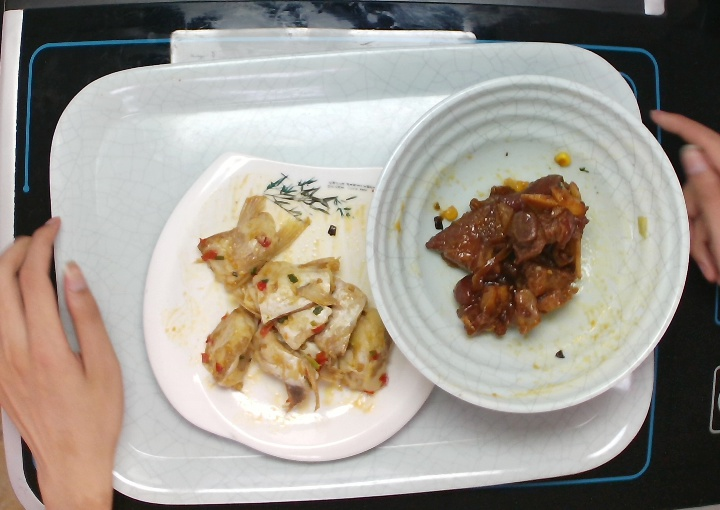JYsf-Da_Tang_Wan: (362, 70, 692, 418)
JYsf-Mian_Pan: (137, 148, 441, 465)
